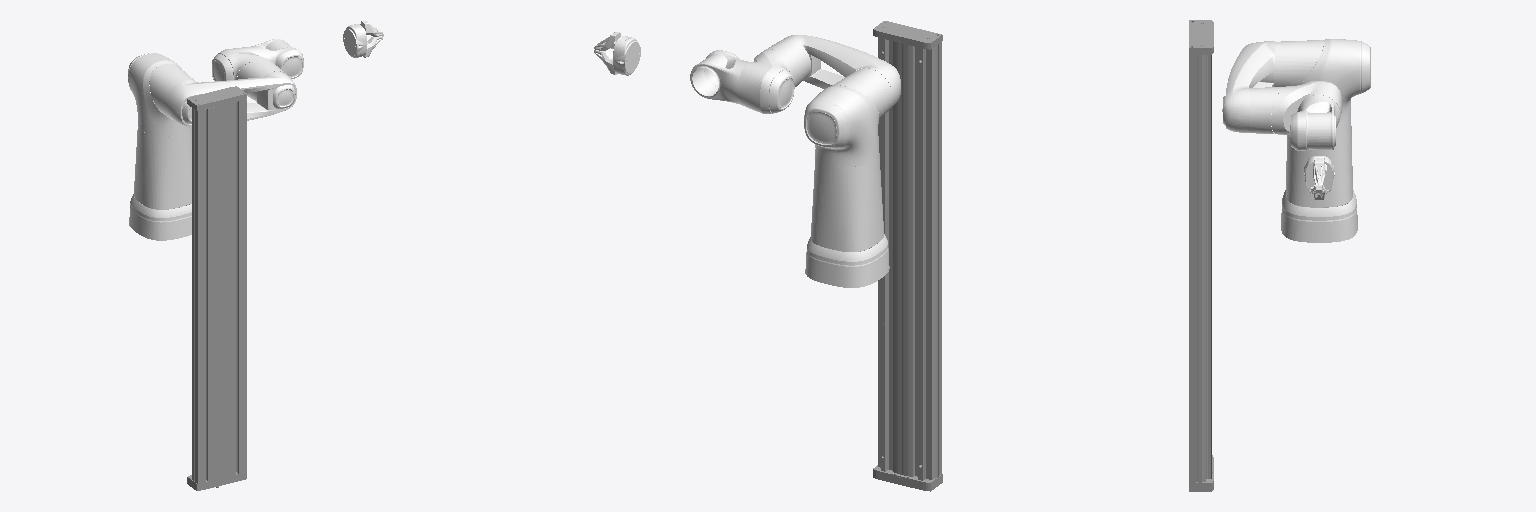
The robot description file, URDF, robot "cobot_v2_0_Tandem":
<?xml version="1.0" ?>
<robot name="cobot_v2_0_Tandem">
    <link name="world" />
    <joint name="robot_in_world" type="fixed">
        <origin xyz="0.0 0.0 0.3" rpy="0.0 0.0 0.0" />
        <parent link="world" />
        <child link="base_link" />
        <axis xyz="0 0 1" />
    </joint>
    <!-- Links -->
    <link name="base_link" />
    <link name="lin_axis">
        <visual>
            <origin rpy="-1.570796327 3.141592654 0.0" xyz="0.0 -0.5 -0.32" />
            <geometry>
                <mesh filename="package://cobot_model/meshes/lin_axis/axis.dae" scale="0.001 0.001 0.001" />
                <material name="silver">
                    <color rgba="1.0 1.0 1.0 1.0" />
                </material>
            </geometry>
        </visual>
        <collision>
            <origin rpy="-1.570796327 3.141592654 0.0" xyz="0.0 -0.5 -0.32" />
            <geometry>
                <mesh filename="package://cobot_model/meshes/lin_axis/axis.dae" scale="0.001 0.001 0.001" />
            </geometry>
        </collision>
        <inertial>
            <mass value="100.1" />
            <origin rpy="-1.570796327 3.141592654 0.0" xyz="0.0 -0.5 -0.32" />
            <inertia ixx="0.3" iyy="0.3" izz="0.3" ixy="0.0" ixz="0.0" iyz="0.0" />
        </inertial>
    </link>
    <link name="lin_axis_carriage">
        <visual>
            <origin rpy="-1.570796327 3.141592654 0.0" xyz="0.0 0.0 -0.32" />
            <geometry>
                <mesh filename="package://cobot_model/meshes/lin_axis/carriage.dae" scale="0.001 0.001 0.001" />
                <material name="silver">
                    <color rgba="1.0 1.0 1.0 1.0" />
                </material>
            </geometry>
        </visual>
        <collision>
            <origin rpy="-1.570796327 3.141592654 0.0" xyz="0.0 0.0 -0.32" />
            <geometry>
                <mesh filename="package://cobot_model/meshes/lin_axis/carriage.dae" scale="0.001 0.001 0.001" />
            </geometry>
        </collision>
        <inertial>
            <mass value="1.0" />
            <origin rpy="-1.570796327 3.141592654 0.0" xyz="0.0 0.0 -0.32" />
            <inertia ixx="0.003" iyy="0.003" izz="0.003" ixy="0.0" ixz="0.0" iyz="0.0" />
        </inertial>
    </link>
    <link name="segment1">
        <visual>
            <origin rpy="-1.570793 -0.0 3.141593" xyz="0.0 -0.311 0.0" />
            <geometry>
                <mesh filename="package://cobot_model/meshes/v2_0_hull/segment01_combined.stl" scale="0.001 0.001 0.001" />
            </geometry>
            <material name="Caerul">
                <color rgba="1.0 1.0 1.0 1.0" />
            </material>
        </visual>
        <collision>
            <origin rpy="-1.570793 0.0 3.141593" xyz="0.0 -0.311 0.0" />
            <geometry>
                <mesh filename="package://cobot_model/meshes/v2_0_hull/segment01_combined.stl" scale="0.001 0.001 0.001" />
            </geometry>
        </collision>
        <inertial>
            <mass value="2.0" />
            <origin rpy="-1.570793 0.0 3.141593" xyz="0.0 -0.311 0.0" />
            <inertia ixx="0.0075496764161139766" iyy="0.009" izz="0.007" ixy="0.0" ixz="0.0" iyz="0.0" />
        </inertial>
    </link>
    <link name="segment2">
        <visual>
            <origin rpy="0.0 0.0 3.1415" xyz="0.0 0.0 0.036" />
            <geometry>
                <mesh filename="package://cobot_model/meshes/v2_0_hull/segment02_combined.stl" scale="0.001 0.001 0.001" />
            </geometry>
            <material name="Caerul">
                <color rgba="1.0 1.0 1.0 1.0" />
            </material>
        </visual>
        <collision>
            <origin rpy="0.0 0.0 3.1415" xyz="0.0 0.0 0.036" />
            <geometry>
                <mesh filename="package://cobot_model/meshes/v2_0_hull/segment02_combined.stl" scale="0.001 0.001 0.001" />
            </geometry>
        </collision>
        <inertial>
            <mass value="1.0" />
            <origin rpy="0.0 0.0 3.1415" xyz="0.0 0.0 0.036" />
            <inertia ixx="0.03" iyy="0.03" izz="0.03" ixy="0.0" ixz="0.0" iyz="0.0" />
        </inertial>
    </link>
    <link name="segment3">
        <visual>
            <origin rpy="0.0 0.0 3.1415" xyz="0.001 0.0 0.06" />
            <geometry>
                <mesh filename="package://cobot_model/meshes/v2_0_hull/segment03_combined.stl" scale="0.001 0.001 0.001" />
            </geometry>
            <material name="Caerul">
                <color rgba="1.0 1.0 1.0 1.0" />
            </material>
        </visual>
        <collision>
            <origin rpy="0.0 0.0 3.1415" xyz="0.001 0.0 0.06" />
            <geometry>
                <mesh filename="package://cobot_model/meshes/v2_0_hull/segment03_combined.stl" scale="0.001 0.001 0.001" />
            </geometry>
        </collision>
        <inertial>
            <mass value="0.1" />
            <origin rpy="0.0 0.0 3.1415" xyz="0.001 0.0 0.06" />
            <inertia ixx="0.03" iyy="0.03" izz="0.03" ixy="0.0" ixz="0.0" iyz="0.0" />
        </inertial>
    </link>
    <link name="segment4">
        <visual>
            <origin rpy="3.1415 0.0 -1.5707 " xyz="0.0 0.0 -0.035" />
            <geometry>
                <mesh filename="package://cobot_model/meshes/v2_0_hull/segment04_combined.stl" scale="0.001 0.001 0.001" />
            </geometry>
            <material name="Caerul">
                <color rgba="1.0 1.0 1.0 1.0" />
            </material>
        </visual>
        <collision>
            <origin rpy="3.1415 0.0 -1.5707 " xyz="0.0 0.0 -0.035" />
            <geometry>
                <mesh filename="package://cobot_model/meshes/v2_0_hull/segment04_combined.stl" scale="0.001 0.001 0.001" />
            </geometry>
        </collision>
        <inertial>
            <mass value="1.0" />
            <origin rpy="3.1415 0.0 -1.5707 " xyz="0.0 0.0 -0.035" />
            <inertia ixx="0.003" iyy="0.003" izz="0.003" ixy="0.0" ixz="0.0" iyz="0.0" />
        </inertial>
    </link>
    <link name="segment5">
        <visual>
            <origin rpy="0.0 0.0 3.1415" xyz="0.0 0.0 0.015" />
            <geometry>
                <mesh filename="package://cobot_model/meshes/v2_0_hull/segment05_combined.stl" scale="0.001 0.001 0.001" />
            </geometry>
            <material name="Caerul">
                <color rgba="1.0 1.0 1.0 1.0" />
            </material>
        </visual>
        <collision>
            <origin rpy="0.0 0.0 3.1415" xyz="0.0 0.0 0.015" />
            <geometry>
                <mesh filename="package://cobot_model/meshes/v2_0_hull/segment05_combined.stl" scale="0.001 0.001 0.001" />
            </geometry>
        </collision>
        <inertial>
            <mass value="0.5" />
            <origin rpy="0.0 0.0 3.1415" xyz="0.0 0.0 0.015" />
            <inertia ixx="0.001" iyy="0.001" izz="0.001" ixy="0.0" ixz="0.0" iyz="0.0" />
        </inertial>
    </link>
    <link name="segment6">
        <visual>
            <origin rpy="0.0 0.0 -1.5708" xyz="0.005 0.0 0.038" />
            <geometry>
                <mesh filename="package://cobot_model/meshes/v2_0_hull/segment06_combined.stl" scale="0.001 0.001 0.001" />
            </geometry>
            <material name="Caerul">
                <color rgba="1.0 1.0 1.0 1.0" />
            </material>
        </visual>
        <collision>
            <origin rpy="0.0 0.0 -1.5708" xyz="0.005 0.0 0.038" />
            <geometry>
                <mesh filename="package://cobot_model/meshes/v2_0_hull/segment06_combined.stl" scale="0.001 0.001 0.001" />
            </geometry>
        </collision>
        <inertial>
            <mass value="0.1" />
            <origin rpy="0.0 0.0 -1.5708" xyz="0.005 0.0 0.038" />
            <inertia ixx="0.03" iyy="0.03" izz="0.03" ixy="0.0" ixz="0.0" iyz="0.0" />
        </inertial>
    </link>
    <link name="segment7" />
    <link name="segment7_black">
        <visual>
            <origin rpy="0.0 0.0 0.0" xyz="0.0 0.0 0.0" />
            <material name="Aterul">
                <color rgba="1.0 1.0 1.0 1.0" />
            </material>
            <geometry>
                <mesh filename="package://cobot_model/meshes/v2_0_hull/segment07_black.stl" scale="0.001 0.001 0.001" />
            </geometry>
        </visual>
        <collision>
            <origin rpy="0.0 0.0 0.0" xyz="0.0 0.0 0.0" />
            <geometry>
                <mesh filename="package://cobot_model/meshes/v2_0_hull/segment07_black.stl" scale="0.001 0.001 0.001" />
            </geometry>
        </collision>
        <inertial>
            <mass value="0.1" />
            <origin xyz="0.0 0.0 0.0" rpy="0.0 0.0 0.0" />
            <inertia ixx="0.03" iyy="0.03" izz="0.03" ixy="0.0" ixz="0.0" iyz="0.0" />
        </inertial>
    </link>
     <link name="segment7_silver">
        <visual>
            <origin rpy="0 0.0 0.0" xyz="0.0 0.0 0.0" />
            <material name="silver">
                <color rgba="1.0 1.0 1.0 1.0" />
            </material>
            <geometry>
                <mesh filename="package://cobot_model/meshes/v2_0_hull/segment07_silver.stl" scale="0.001 0.001 0.001" />
            </geometry>
        </visual>
    </link>
    <joint name="JFix_seg7_black" type="fixed">
        <origin rpy="0.0 0.0 0.0" xyz="0.004 0.002 0.091" />
        <parent link="segment7" />
        <child link="segment7_black" />
    </joint>
    <joint name="JFix_seg7_silver" type="fixed">
        <origin rpy="0.0 0.0 0.0" xyz="0.004 0.002 0.091" />
        <parent link="segment7" />
        <child link="segment7_silver" />
    </joint>
    <link name="TCP">
        <visual>
            <origin xyz="-0.005 -0.002 0.01" rpy="0.0 0.0 0.0" />
            <geometry>
                <cylinder radius="0.00001" length="0.000001" />
            </geometry>
            <material name="silver">
                <color rgba="0.629 0.629 0.625 1.0" />
            </material>
        </visual>
        <collision>
            <origin xyz="-0.005 -0.002 0.010" rpy = "0 0 0" />
            <geometry>
                <cylinder radius="0.00001" length="0.000001" />
            </geometry>
        </collision>
    </link>
    <!-- Joints -->
    <joint name="joint_0" type="prismatic">
        <origin rpy="0.0 0.0 0.0" xyz="0.0 0.0 0.0" />
        <parent link="lin_axis" />
        <child link="lin_axis_carriage" />
        <axis xyz="0 1 0" />
        <limit effort="200.000" velocity="3.141593" lower="-.35" upper=".55" />
    </joint>
    <joint name="mount_fixture" type="fixed">
        <origin rpy="0.0 0.0 0.0" xyz="0.0 0.0 0.0" />
        <parent link="lin_axis_carriage" />
        <child link="segment1" />
    </joint>
    <joint name="joint_1" type="revolute">
        <origin rpy="-1.570793 0.0 3.141593" xyz="0.0 -0.274400 0.0" />
        <parent link="segment1" />
        <child link="segment2" />
        <axis xyz="0 0 1" />
        <limit effort="40.0" velocity="3.141593" lower="-0.7853976732051033" upper="3.9269903267948965" />
        <dynamics damping="0.0" friction="0.0" />
    </joint>
    <joint name="joint_2" type="revolute">
        <origin rpy="-1.570796 0.0 0.0" xyz="0.00005 0.04955 0.1555" />
        <parent link="segment2" />
        <child link="segment3" />
        <axis xyz="0 0 1" />
        <limit effort="20.0" velocity="3.141593" lower="-1.570796" upper="1.570796" />
        <dynamics damping="0.0" friction="0.0" />
    </joint>
    <joint name="joint_3" type="revolute">
        <origin rpy="3.141593 0.0 1.570796" xyz="-0.254493 0.0 0.0852" />
        <parent link="segment3" />
        <child link="segment4" />
        <axis xyz="0 0 1" />
        <limit effort="10.0" velocity="3.141593" lower="-1.570796" upper="1.570796" />
        <dynamics damping="0.0" friction="0.0" />
    </joint>
    <joint name="joint_4" type="revolute">
        <origin rpy="-1.570796 0.0 -3.141593" xyz="0.0 -0.0076 0.132393" />
        <parent link="segment4" />
        <child link="segment5" />
        <axis xyz="0 0 1" />
        <limit effort="10.0" velocity="3.141593" lower="-1.570796" upper="1.570796" />
        <dynamics damping="0.0" friction="0.0" />
    </joint>
    <joint name="joint_5" type="revolute">
        <origin rpy="-1.570796 0.0 3.141593" xyz="0.0 -0.0063 0.113264" />
        <parent link="segment5" />
        <child link="segment6" />
        <axis xyz="0 0 1" />
        <limit effort="10.0" velocity="3.141593" lower="-1.570796" upper="1.570796" />
        <dynamics damping="0.0" friction="0.0" />
    </joint>
    <joint name="joint_6" type="revolute">
        <origin rpy="1.570796 0.0 0.0" xyz="0.0 -0.1328 -0.006164" />
        <parent link="segment6" />
        <child link="segment7" />
        <axis xyz="0 0 1" />
        <limit effort="10." velocity="3.141593" lower="-2.356194" upper="2.356194" />
        <dynamics damping="0.0" friction="0.0" />
    </joint>
    <joint name="JFix_TCP" type="fixed">
        <origin rpy="0.0 0.0 3.141593" xyz="0.0 0.0 0.190143" />
        <parent link="segment7" />
        <child link="TCP" />
    </joint>
    <joint name="JFix_Base" type="fixed">
        <origin rpy="-1.570796 0.0 0.0" xyz="0.0 0.0 0.5" />
        <parent link="base_link" />
        <child link="lin_axis" />
    </joint>
</robot>

--- Render facts (derived) ---
3 views of the same robot in one strip: view 1: azimuth 30°, elevation 25°; view 2: azimuth 150°, elevation 25°; view 3: azimuth 270°, elevation 25° (orthographic).
Robot: cobot_v2_0_Tandem — 14 links, 13 joints (6 revolute, 1 prismatic, 6 fixed); root link world; default pose: all joints at 0.
Visible links, largest first — view 1: lin_axis, segment1, segment2, segment3, segment4, segment5, segment7_black; view 2: lin_axis, segment1, segment2, segment4, segment3, segment5, segment7_black; view 3: lin_axis, segment1, segment2, segment3, segment4, segment5, segment7_silver.
Link boxes in pixels (x1,y1,x2,y2): lin_axis: (187, 86, 246, 490); segment1: (129, 127, 191, 240); segment2: (128, 53, 194, 136); segment3: (165, 71, 296, 126); segment4: (212, 47, 286, 101); segment5: (245, 39, 303, 78); segment7_black: (343, 24, 366, 57); lin_axis: (873, 21, 942, 491); segment1: (805, 154, 889, 287); segment2: (804, 68, 892, 166); segment4: (737, 39, 810, 113); segment3: (783, 35, 900, 112); segment5: (690, 50, 749, 104); segment7_black: (613, 36, 640, 75); lin_axis: (1189, 20, 1213, 491); segment1: (1281, 114, 1357, 242); segment2: (1274, 39, 1370, 120); segment3: (1222, 41, 1274, 132); segment4: (1250, 81, 1341, 134); segment5: (1290, 95, 1339, 150); segment7_silver: (1311, 159, 1326, 199).
Size in the robot's own frame: 0.8029 by 0.447 by 1.21 metres.
Meshes: 10 distinct files referenced, 8 mesh visuals loaded (7 binary STL, 1 Collada DAE); not drawn: 2 (reference not matched to a file when rendering).